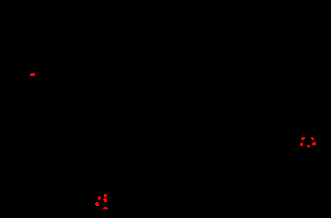Target: (103, 198, 107, 203), (312, 142, 316, 146), (95, 202, 99, 206), (30, 73, 35, 76), (103, 207, 108, 210), (301, 137, 305, 140), (98, 196, 101, 200), (311, 137, 314, 140), (300, 143, 303, 146), (307, 145, 310, 148), (104, 194, 107, 197)
